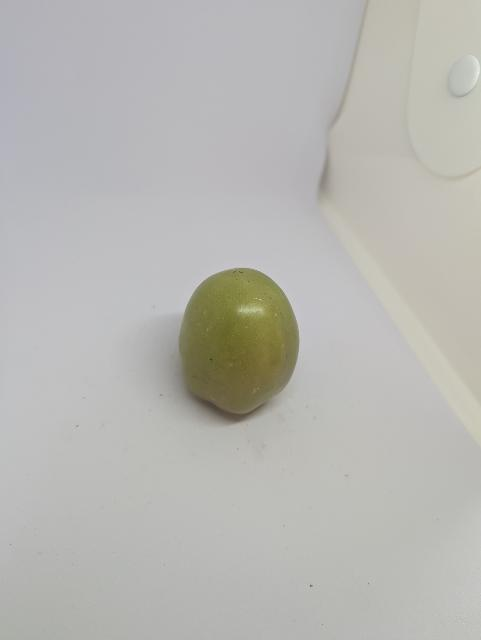green: (162, 249, 323, 434)
